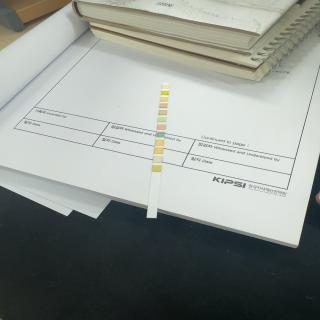mark: (152, 164, 161, 172), (154, 156, 162, 163), (157, 124, 166, 130), (154, 148, 162, 154), (156, 131, 164, 137), (156, 140, 163, 146), (158, 117, 166, 122), (158, 110, 166, 115), (160, 103, 168, 108), (160, 97, 168, 101), (161, 90, 169, 94), (162, 85, 169, 88)
